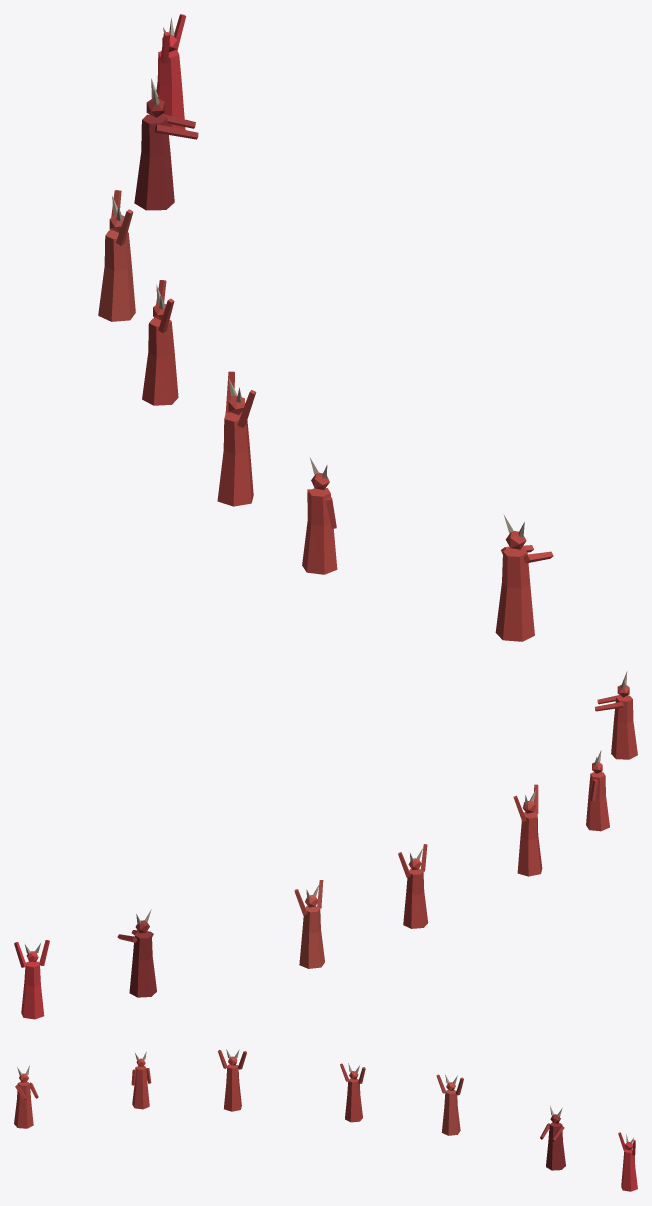
File: Stands_3_0_2_Ice.obj
The picture shows the model from 3 angles, top to bottom: view 1: azimuth 30°, elevation 25°; view 2: azimuth 150°, elevation 25°; view 3: azimuth 270°, elevation 25°; orthographic projection. The views are drawn at different scales.
Parts seen in each view (by area): view 1: Stands_3_0_2_Ice; view 2: Stands_3_0_2_Ice; view 3: Stands_3_0_2_Ice.
Part boxes in pixels (<box>): Stands_3_0_2_Ice: <box>98,14,553,641</box>; Stands_3_0_2_Ice: <box>14,671,637,1019</box>; Stands_3_0_2_Ice: <box>14,1049,637,1191</box>.
Size of the model in its own units: 11.25 by 3.45 by 32.48.
Materials: 1 (1 with a texture image).
